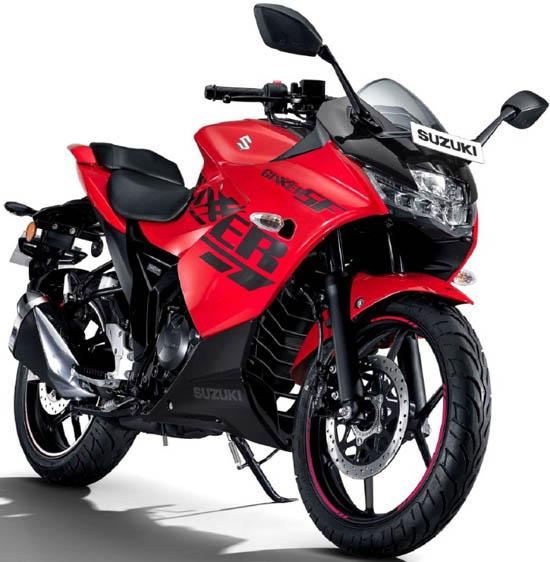motorbike: (4, 2, 550, 559)
